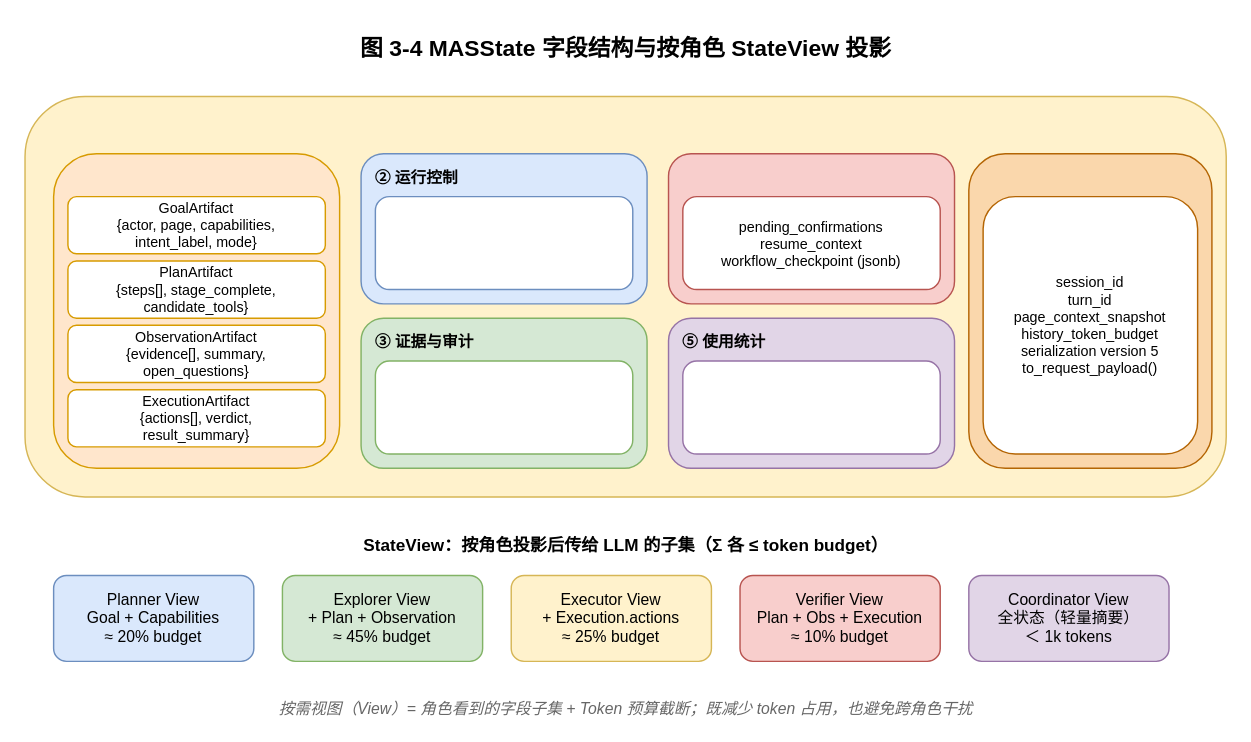
Image size: 1251x742. Some labels were removed from this diagram. Here are the shapes that lost their labels. From the top down, the box of each, then its label:
(374, 195, 633, 290): loop_round no_progress_count stop_reason attempted_tool_signatures
(667, 152, 955, 304): ④ 确认与恢复
(52, 152, 340, 468): ① 四阶段工件
(24, 95, 1226, 497): MASState（多智能体共享状态对象）
(967, 152, 1212, 468): ⑥ 持久化字段
(374, 360, 633, 454): tool_records[] action_history[] trace_id
(681, 360, 940, 454): llm_calls, tokens (in/out) tool_latency_ms llm_by_role{}
